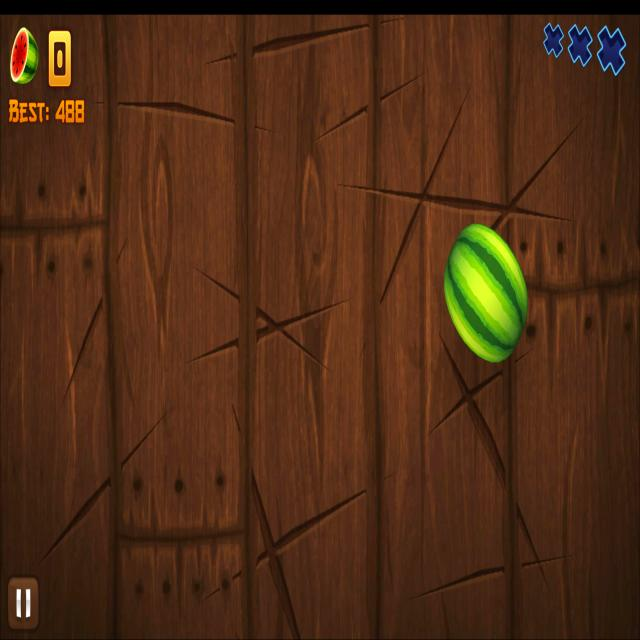fruit: (443, 222, 528, 364)
